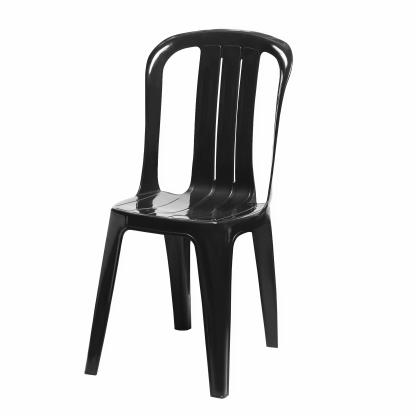chair: (78, 26, 293, 413)
